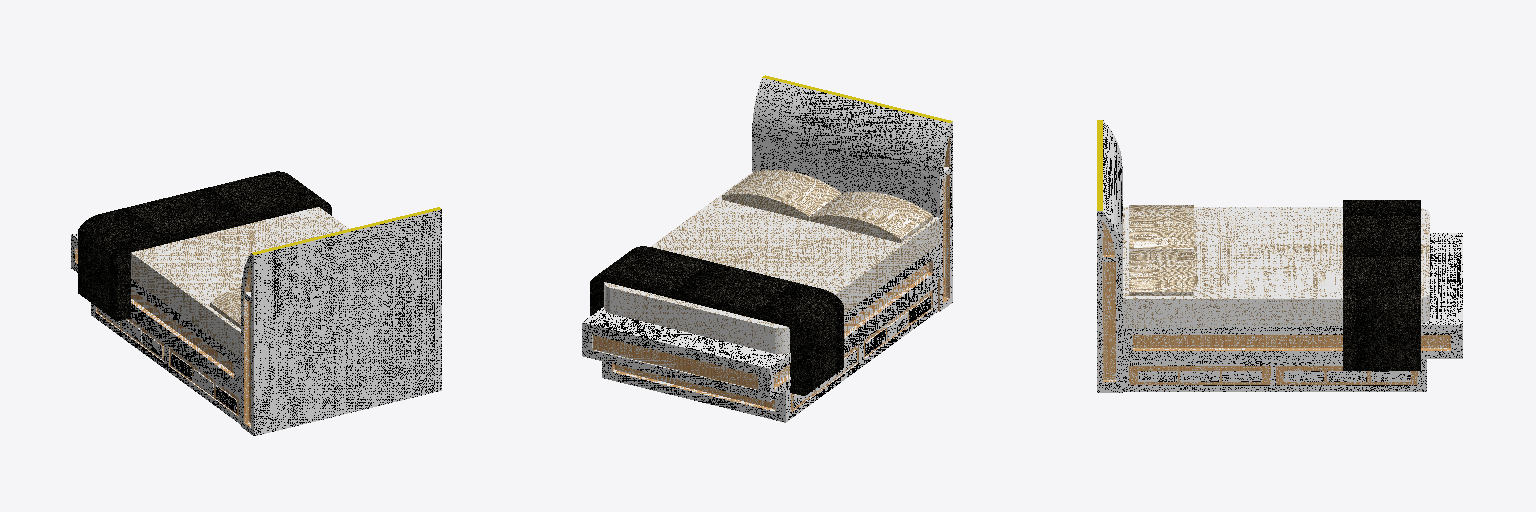
3 renders of one model, left to right at view 1: azimuth 30°, elevation 25°; view 2: azimuth 150°, elevation 25°; view 3: azimuth 270°, elevation 25°, orthographic.
Visible parts, largest first — view 1: mesh8_mesh8-geometry, mesh5_mesh5-geometry, mesh3_mesh3-geometry; view 2: mesh8_mesh8-geometry, mesh5_mesh5-geometry, mesh3_mesh3-geometry, mesh1_mesh1-geometry; view 3: mesh8_mesh8-geometry, mesh5_mesh5-geometry, mesh1_mesh1-geometry, mesh3_mesh3-geometry.
Boxes of the visible parts, x1,y1,x2,y2 form: mesh8_mesh8-geometry: [71, 207, 441, 435]; mesh5_mesh5-geometry: [78, 171, 331, 321]; mesh3_mesh3-geometry: [210, 286, 240, 328]; mesh8_mesh8-geometry: [582, 75, 952, 422]; mesh5_mesh5-geometry: [590, 246, 843, 395]; mesh3_mesh3-geometry: [810, 192, 932, 242]; mesh1_mesh1-geometry: [722, 170, 841, 220]; mesh8_mesh8-geometry: [1097, 120, 1462, 392]; mesh5_mesh5-geometry: [1343, 200, 1420, 370]; mesh1_mesh1-geometry: [1129, 249, 1193, 295]; mesh3_mesh3-geometry: [1129, 205, 1193, 248].
Size of the model in its own units: 0.5113 by 0.4121 by 0.7542.
10 materials, 5 textured.